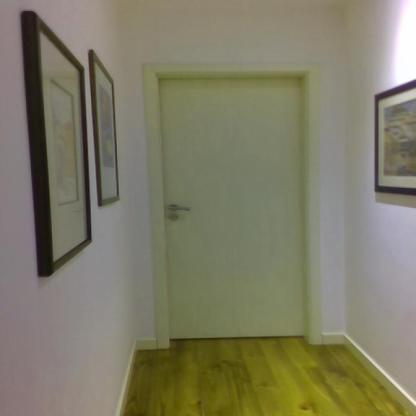door: (148, 61, 324, 346)
